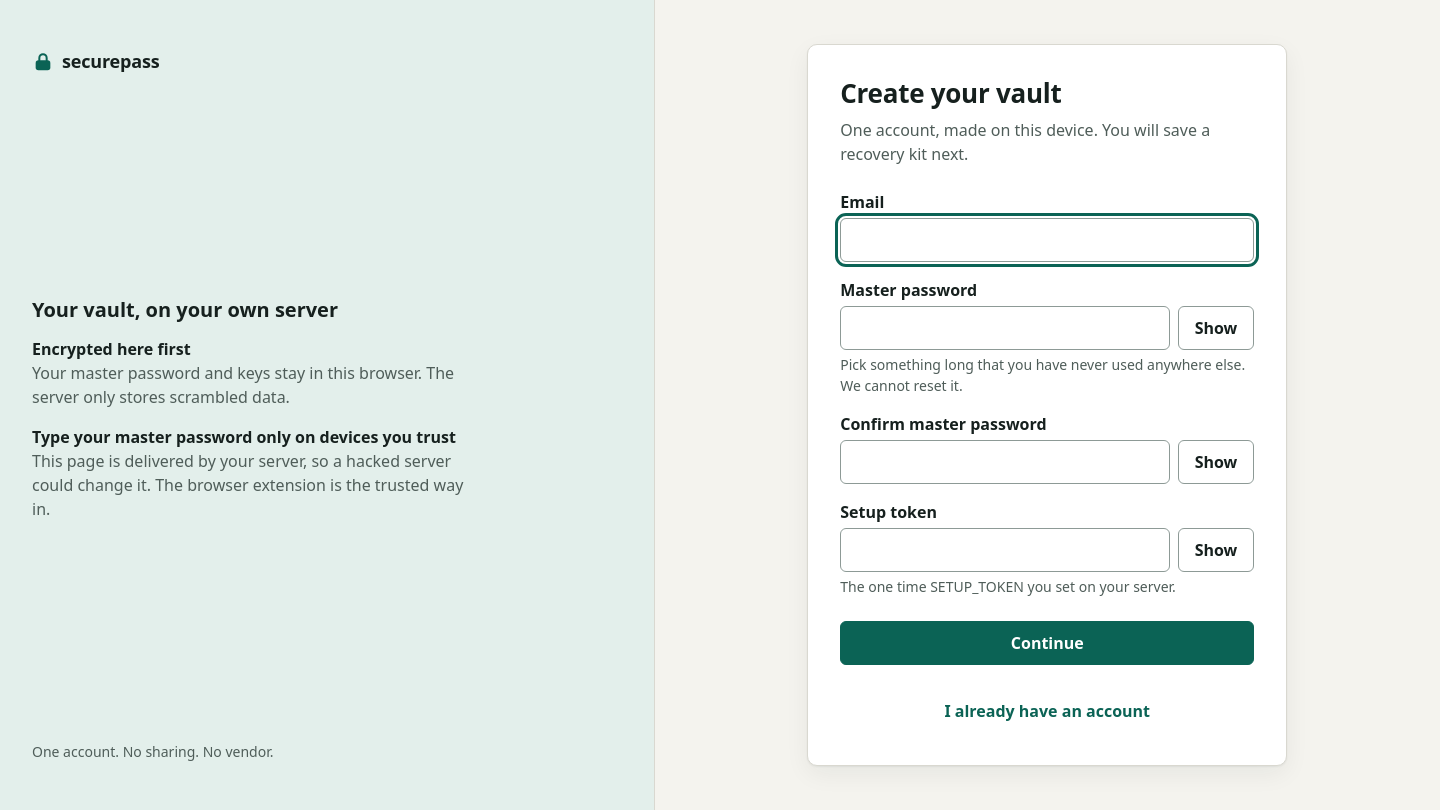
Test: SetupScreen account step › shows the strength meter only once a password is typed
Expected: the text "Strength:" is not shown
Step 1. Type "abc" into the password field labelled "Master password" → (1005, 328), box [840,306,1170,350]
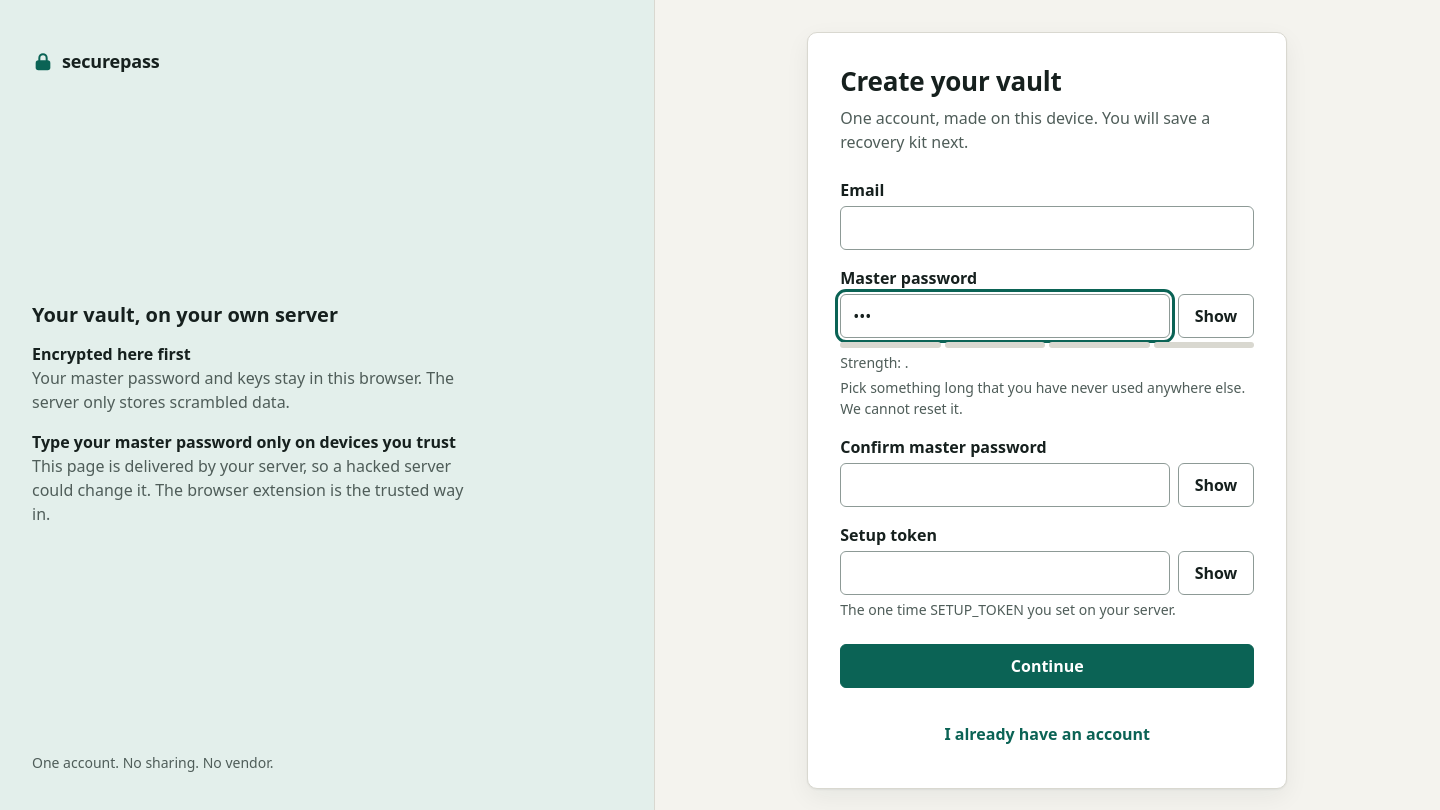
Expected: the text "Strength: ." is shown, [840,352,909,372]
